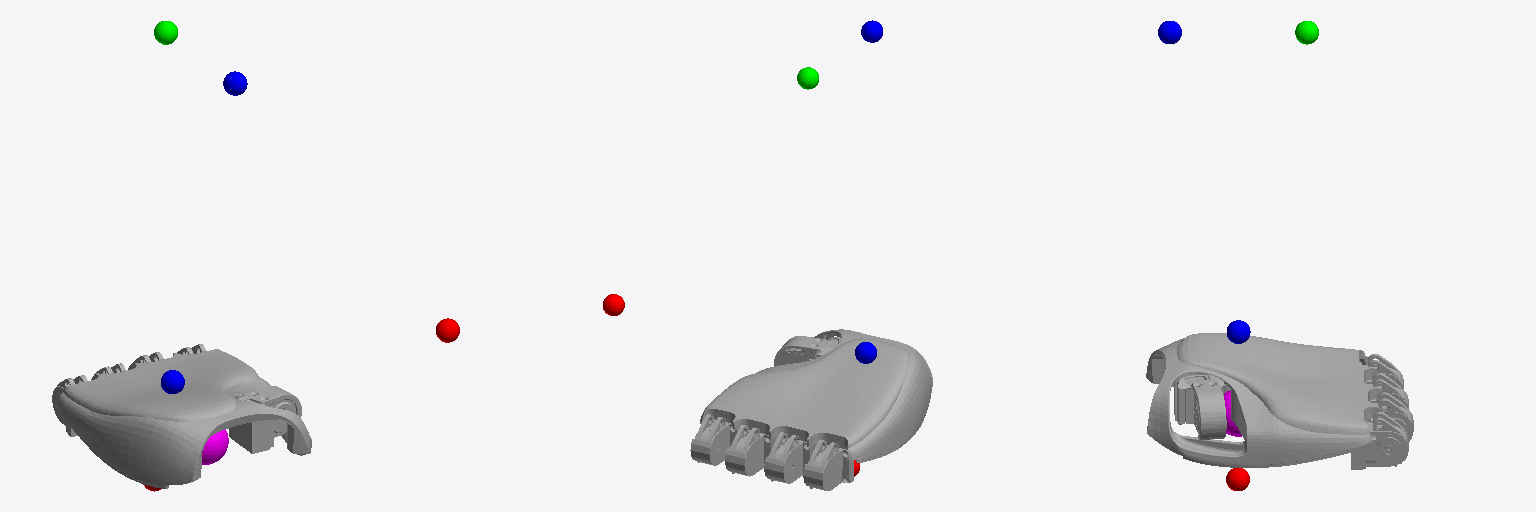
The robot description file, URDF, robot "dex3_right":
<?xml version='1.0' encoding='utf-8'?>
<robot name="dex3_right">
  <mujoco>
    <compiler meshdir="meshes" discardvisual="false" />
  </mujoco>

  
  

  <link name="right_hand_palm_link">
    <inertial>
      <origin xyz="0.06214634836 0.00050869656 -0.00058171093" rpy="-1.57 1.57 0" />
      <mass value="0.37283854" />
      <inertia ixx="0.00027535181027" ixy="0.00001595519465" ixz="-0.00000242161890" iyy="0.00053951827219" iyz="0.00000042279435" izz="0.00039623390907" />
    </inertial>
    <visual>
      <origin xyz="0 0 0" rpy="0 0 0" />
      <geometry>
        <mesh filename="meshes/right_hand_palm_link.STL" />
      </geometry>
      <material name="white">
        <color rgba="0.7 0.7 0.7 1" />
      </material>
    </visual>
    <collision>
      <origin xyz="0 0 0" rpy="0 0 0" />
      <geometry>
        <mesh filename="meshes/right_hand_palm_link.STL" />
      </geometry>
    </collision>
  </link>
  <joint name="right_hand_thumb_0_joint" type="revolute">
    <origin xyz="0.0255 0 0" rpy="0 0 0" />
    <axis xyz="0 1 0" />
    <parent link="right_hand_palm_link" />
    <child link="right_hand_thumb_0_link" />
    <limit effort="2.45" velocity="6.857" lower="-1.04719755" upper="1.04719755" />
  </joint>
  <link name="right_hand_thumb_0_link">
    <inertial>
      <origin xyz="-0.00088424580 0.00863407079 0.00094429336" rpy="0 0 0" />
      <mass value="0.08623657" />
      <inertia ixx="0.00001602919238" ixy="-0.00000010683177" ixz="0.00000016728875" iyy="0.00001451795012" iyz="0.00000051094752" izz="0.00001637877663" />
    </inertial>
    <visual>
      <origin xyz="0 0 0" rpy="0 0 0" />
      <geometry>
        <mesh filename="meshes/right_hand_thumb_0_link.STL" />
      </geometry>
      <material name="white">
        <color rgba="0.7 0.7 0.7 1" />
      </material>
    </visual>
    <collision>
      <origin xyz="0 0 0" rpy="0 0 0" />
      <geometry>
        <mesh filename="meshes/right_hand_thumb_0_link.STL" />
      </geometry>
    </collision>
  </link>
  <joint name="right_hand_thumb_1_joint" type="revolute">
    <origin xyz="-0.0025 0.0193 0" rpy="0 0 0" />
    <axis xyz="0 0 1" />
    <parent link="right_hand_thumb_0_link" />
    <child link="right_hand_thumb_1_link" />
    <limit effort="1.4" velocity="12" lower="-0.920" upper="0.72431163" />
  </joint>
  <link name="right_hand_thumb_1_link">
    <inertial>
      <origin xyz="-0.00082788768 0.03547435774 -0.00038089960" rpy="0 0 0" />
      <mass value="0.05885070" />
      <inertia ixx="0.00001274699945" ixy="0.00000050770784" ixz="0.00000016088850" iyy="0.00000601573947" iyz="0.00000027839003" izz="0.00001234543582" />
    </inertial>
    <visual>
      <origin xyz="0 0 0" rpy="0 0 0" />
      <geometry>
        <mesh filename="meshes/right_hand_thumb_1_link.STL" />
      </geometry>
      <material name="white">
        <color rgba="0.7 0.7 0.7 1" />
      </material>
    </visual>
    <collision>
      <origin xyz="-0.001 0.032 0" rpy="0 0 0" />
      <geometry>
        <box size="0.02 0.03 0.02" />
      </geometry>
    </collision>
  </link>
  <joint name="right_hand_thumb_2_joint" type="revolute">
    <origin xyz="0 0.0458 0" rpy="0 0 0" />
    <axis xyz="0 0 1" />
    <parent link="right_hand_thumb_1_link" />
    <child link="right_hand_thumb_2_link" />
    <limit effort="1.4" velocity="12" lower="-1.74532925" upper="0" />
  </joint>
  <link name="right_hand_thumb_2_link">
    <inertial>
      <origin xyz="-0.00171735242 0.02628192939 0.00010778879" rpy="0 0 0" />
      <mass value="0.02030626" />
      <inertia ixx="0.00000461267817" ixy="0.00000003422130" ixz="-0.00000000823881" iyy="0.00000153561368" iyz="0.00000002549885" izz="0.00000386625776" />
    </inertial>
    <visual>
      <origin xyz="0 0 0" rpy="0 0 0" />
      <geometry>
        <mesh filename="meshes/right_hand_thumb_2_link.STL" />
      </geometry>
      <material name="white">
        <color rgba="0.7 0.7 0.7 1" />
      </material>
    </visual>
    <collision>
      <origin xyz="0 0 0" rpy="0 0 0" />
      <geometry>
        <mesh filename="meshes/right_hand_thumb_2_link.STL" />
      </geometry>
    </collision>
  </link>
  <joint name="right_hand_middle_0_joint" type="revolute">
    <origin xyz="0.0777 -0.0016 -0.0285" rpy="0 0 0" />
    <axis xyz="0 0 1" />
    <parent link="right_hand_palm_link" />
    <child link="right_hand_middle_0_link" />
    <limit effort="1.4" velocity="12" lower="0" upper="1.57079632" />
  </joint>
  <link name="right_hand_middle_0_link">
    <inertial>
      <origin xyz="0.03547435774 -0.00082788768 0.00038089960" rpy="0 0 0" />
      <mass value="0.05885070" />
      <inertia ixx="0.00000601573947" ixy="0.00000050770784" ixz="-0.00000027839003" iyy="0.00001274699945" iyz="-0.00000016088850" izz="0.00001234543582" />
    </inertial>
    <visual>
      <origin xyz="0 0 0" rpy="0 0 0" />
      <geometry>
        <mesh filename="meshes/right_hand_middle_0_link.STL" />
      </geometry>
      <material name="white">
        <color rgba="0.7 0.7 0.7 1" />
      </material>
    </visual>
    <collision>
      <origin xyz="0 0 0" rpy="0 0 0" />
      <geometry>
        <mesh filename="meshes/right_hand_middle_0_link.STL" />
      </geometry>
    </collision>
  </link>
  <joint name="right_hand_middle_1_joint" type="revolute">
    <origin xyz="0.0458 0 0" rpy="0 0 0" />
    <axis xyz="0 0 1" />
    <parent link="right_hand_middle_0_link" />
    <child link="right_hand_middle_1_link" />
    <limit effort="1.4" velocity="12" lower="0" upper="1.74532925" />
  </joint>
  <link name="right_hand_middle_1_link">
    <inertial>
      <origin xyz="0.02628192939 -0.00171735242 -0.00010778879" rpy="0 0 0" />
      <mass value="0.02030626" />
      <inertia ixx="0.00000153561368" ixy="0.00000003422130" ixz="-0.00000002549885" iyy="0.00000461267817" iyz="0.00000000823881" izz="0.00000386625776" />
    </inertial>
    <visual>
      <origin xyz="0 0 0" rpy="0 0 0" />
      <geometry>
        <mesh filename="meshes/right_hand_middle_1_link.STL" />
      </geometry>
      <material name="white">
        <color rgba="0.7 0.7 0.7 1" />
      </material>
    </visual>
    <collision>
      <origin xyz="0 0 0" rpy="0 0 0" />
      <geometry>
        <mesh filename="meshes/right_hand_middle_1_link.STL" />
      </geometry>
    </collision>
  </link>
  <joint name="right_hand_index_0_joint" type="revolute">
    <origin xyz="0.0777 -0.0016 0.0285" rpy="0 0 0" />
    <axis xyz="0 0 1" />
    <parent link="right_hand_palm_link" />
    <child link="right_hand_index_0_link" />
    <limit effort="1.4" velocity="12" lower="0" upper="1.57079632" />
  </joint>
  <link name="right_hand_index_0_link">
    <inertial>
      <origin xyz="0.03547435774 -0.00082788768 0.00038089960" rpy="0 0 0" />
      <mass value="0.05885070" />
      <inertia ixx="0.00000601573947" ixy="0.00000050770784" ixz="-0.00000027839003" iyy="0.00001274699945" iyz="-0.00000016088850" izz="0.00001234543582" />
    </inertial>
    <visual>
      <origin xyz="0 0 0" rpy="0 0 0" />
      <geometry>
        <mesh filename="meshes/right_hand_index_0_link.STL" />
      </geometry>
      <material name="white">
        <color rgba="0.7 0.7 0.7 1" />
      </material>
    </visual>
    <collision>
      <origin xyz="0 0 0" rpy="0 0 0" />
      <geometry>
        <mesh filename="meshes/right_hand_index_0_link.STL" />
      </geometry>
    </collision>
  </link>
  <joint name="right_hand_index_1_joint" type="revolute">
    <origin xyz="0.0458 0 0" rpy="0 0 0" />
    <axis xyz="0 0 1" />
    <parent link="right_hand_index_0_link" />
    <child link="right_hand_index_1_link" />
    <limit effort="1.4" velocity="12" lower="0" upper="1.74532925" />
  </joint>
  <link name="right_hand_index_1_link">
    <inertial>
      <origin xyz="0.02628192939 -0.00171735242 -0.00010778879" rpy="0 0 0" />
      <mass value="0.02030626" />
      <inertia ixx="0.00000153561368" ixy="0.00000003422130" ixz="-0.00000002549885" iyy="0.00000461267817" iyz="0.00000000823881" izz="0.00000386625776" />
    </inertial>
    <visual>
      <origin xyz="0 0 0" rpy="0 0 0" />
      <geometry>
        <mesh filename="meshes/right_hand_index_1_link.STL" />
      </geometry>
      <material name="white">
        <color rgba="0.7 0.7 0.7 1" />
      </material>
    </visual>
    <collision>
      <origin xyz="0 0 0" rpy="0 0 0" />
      <geometry>
        <mesh filename="meshes/right_hand_index_1_link.STL" />
      </geometry>
    </collision>
  </link>




  <joint name="base_thumb" type="fixed">
    <parent link="base_link" />
    <child link="base_link_thumb" />
    <origin rpy="0 0 0" xyz="-0.015 0.015 -0.02" />
  </joint>
  <joint name="base_index" type="fixed">
    <parent link="base_link" />
    <child link="base_link_index" />
    <origin rpy="0 0 0" xyz="-0.015 0 0" />
  </joint>
  <joint name="base_middle" type="fixed">
    <parent link="base_link" />
    <child link="base_link_middle" />
    <origin rpy="0 0 0" xyz="-0.015 0 0.03" />
  </joint>
  <joint name="base" type="fixed">
    <parent link="base_link" />
    <child link="right_hand_palm_link" />
    <origin rpy="1.5692036732 -1.5700000000 3.1415926536" xyz="0 0 0" />
  </joint>
  
  <joint name="thumb_tip_joint" type="fixed">
    <parent link="right_hand_thumb_2_link" />
    <child link="thumb_tip" />
    <origin rpy="0 0 0" xyz="0 0.05 0" />
  </joint>

  <joint name="middle_joint" type="fixed">
    <parent link="right_hand_middle_1_link" />
    <child link="middle_tip" />
    <origin rpy="0 0 0" xyz="0.05 0 0" />
  </joint>

  <joint name="index_joint" type="fixed">
    <parent link="right_hand_index_1_link" />
    <child link="index_tip" />
    <origin rpy="0 0 0" xyz="0.05 0 0" />
  </joint>

  <link name="base_link_thumb">
      <visual>
        <origin xyz="0 0 0" rpy="0 0 0" />
        <geometry>
          <sphere radius="0.005" />
        </geometry>
        <material name="red">
          <color rgba="1 0 0 1" />
        </material>
      </visual>
  </link>
  <link name="base_link_index">
      <visual>
        <origin xyz="0 0 0" rpy="0 0 0" />
        <geometry>
          <sphere radius="0.005" />
        </geometry>
        <material name="green">
          <color rgba="0 1 0 1" />
        </material>
      </visual>
  </link>
  <link name="base_link_middle">
      <visual>
        <origin xyz="0 0 0" rpy="0 0 0" />
        <geometry>
          <sphere radius="0.005" />
        </geometry>
        <material name="blue">
          <color rgba="0 0 1 1" />
        </material>
      </visual>
  </link>
  <link name="base_link">
      <visual>
        <origin xyz="0 0 0" rpy="0 0 0" />
        <geometry>
          <sphere radius="0.01" />
        </geometry>
        <material name="purple">
          <color rgba="1 0 1 1" />
        </material>
      </visual>
  </link>

  <link name="thumb_tip">
    <visual>
      <origin xyz="0 0 0" rpy="0 0 0" />
      <geometry>
        <sphere radius="0.005" />
      </geometry>
      <material name="red">
        <color rgba="1 0 0 1" />
      </material>
    </visual>
  </link>

  <link name="index_tip">
    <visual>
      <origin xyz="0 0 0" rpy="0 0 0" />
      <geometry>
        <sphere radius="0.005" />
      </geometry>
      <material name="green">
        <color rgba="0 1 0 1" />
      </material>
    </visual>
  </link>

  <link name="middle_tip">
    <visual>
      <origin xyz="0 0 0" rpy="0 0 0" />
      <geometry>
        <sphere radius="0.005" />
      </geometry>
      <material name="blue">
        <color rgba="0 0 1 1" />
      </material>
    </visual>
  </link>


 

</robot>

--- Render facts (derived) ---
Views: 3 orthographic renders of the robot side by side, from view 1: azimuth 30°, elevation 25°; view 2: azimuth 150°, elevation 25°; view 3: azimuth 270°, elevation 25°.
Model dex3_right with 15 links and 14 joints (7 revolute, 7 fixed), rooted at base_link, posed all joints at 0.
Links seen in each view (by area): view 1: right_hand_palm_link, base_link; view 2: right_hand_palm_link; view 3: right_hand_palm_link.
Link boxes in pixels (bbox=[...]): right_hand_palm_link: bbox=[52, 344, 311, 488]; base_link: bbox=[202, 429, 228, 464]; right_hand_palm_link: bbox=[690, 329, 932, 490]; right_hand_palm_link: bbox=[1146, 333, 1413, 469].
Size in the robot's own frame: 0.1613 by 0.1111 by 0.2035 metres.
Meshes: 8 distinct files referenced, 1 mesh visuals loaded (1 binary STL); not drawn: 7 (reference not matched to a file when rendering).
